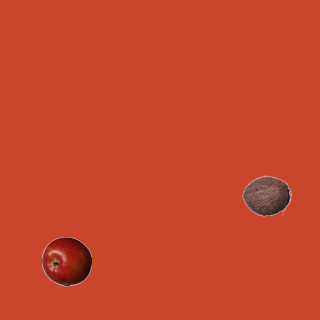Apple Braeburn: (41, 236, 91, 286)
Cocos: (241, 170, 291, 220)
